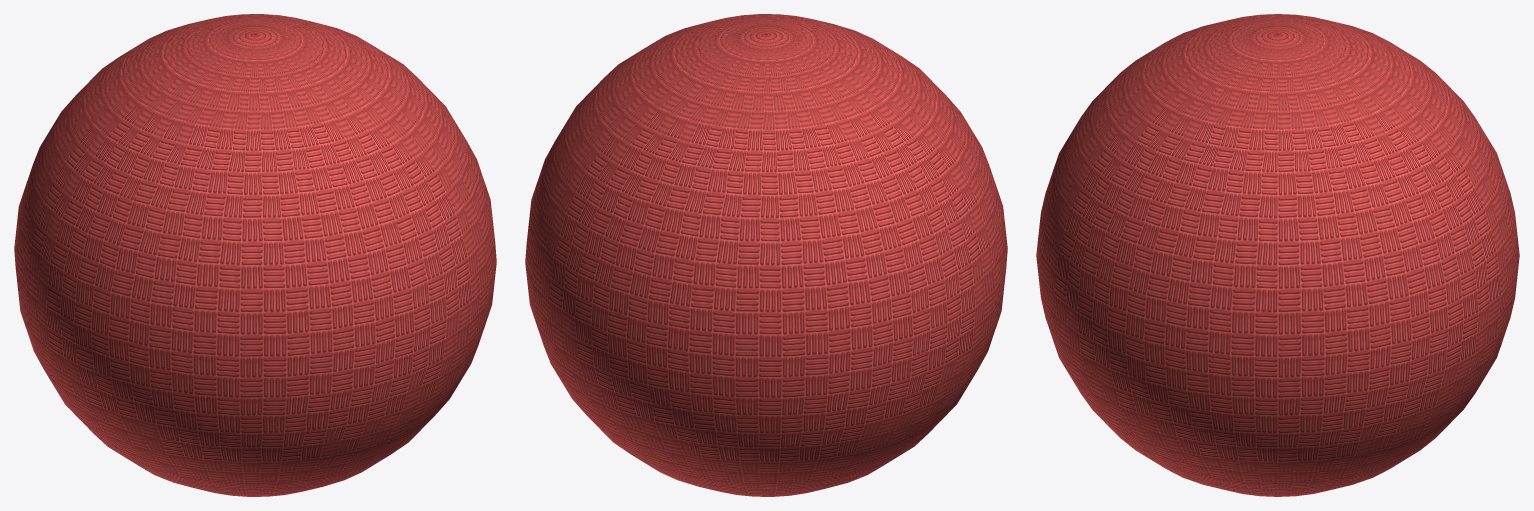
File: Dodgeball.fbx
3 views of the same model, side by side, from view 1: azimuth 30°, elevation 25°; view 2: azimuth 150°, elevation 25°; view 3: azimuth 270°, elevation 25° (orthographic).
Parts seen in each view (by area): view 1: Dodgeball; view 2: Dodgeball; view 3: Dodgeball.
Part boxes in pixels (left/top/right/bottom): Dodgeball: left=14, top=14, right=496, bottom=496; Dodgeball: left=525, top=14, right=1007, bottom=496; Dodgeball: left=1036, top=14, right=1519, bottom=496.
Bounding box in the file's own units: 35.56 × 35.81 × 35.56.
Materials: 1 (1 with a texture image).
